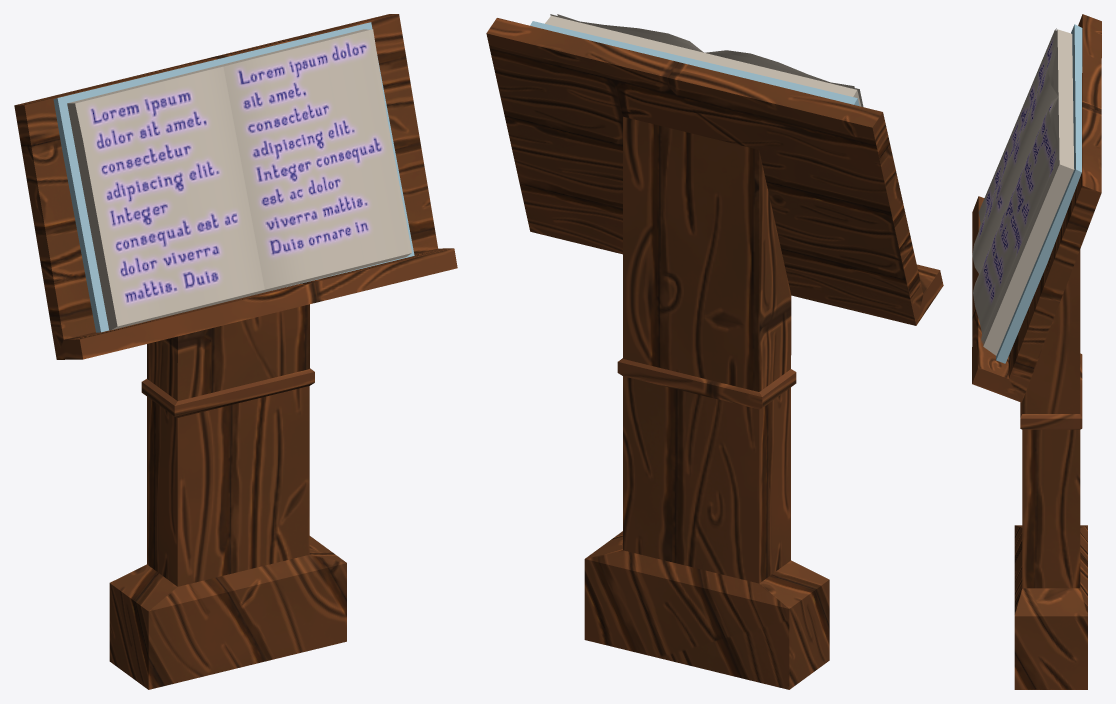
File: stylized_magic_book_stand.glb
3 renders of one model, left to right at view 1: azimuth 30°, elevation 25°; view 2: azimuth 150°, elevation 25°; view 3: azimuth 270°, elevation 25°, orthographic. The views are drawn at different scales.
Parts seen in each view (by area): view 1: Book_Stand; view 2: Book_Stand; view 3: Book_Stand.
Part boxes in pixels (x1,y1,x2,y2): Book_Stand: (14, 14, 457, 689); Book_Stand: (486, 14, 943, 689); Book_Stand: (972, 14, 1101, 689).
Size of the model in its own units: 1.4 by 2.11 by 0.4485.
3 materials, 2 textured.
